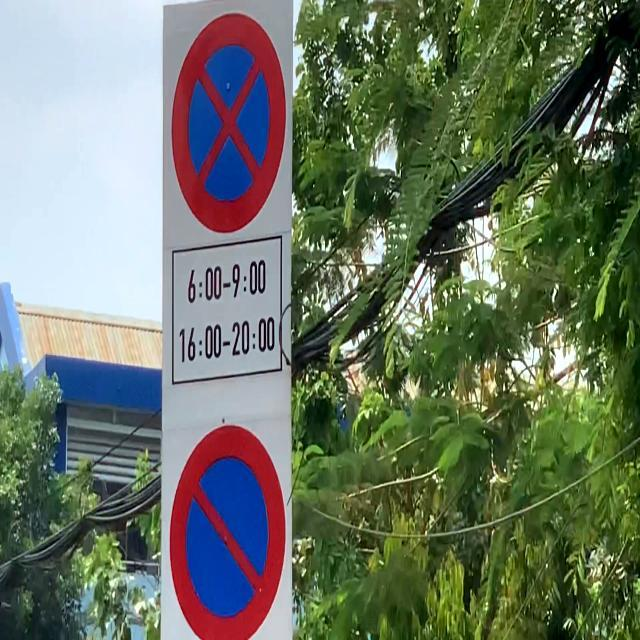P-130: (170, 9, 285, 231)
P-131a: (170, 423, 286, 637)
